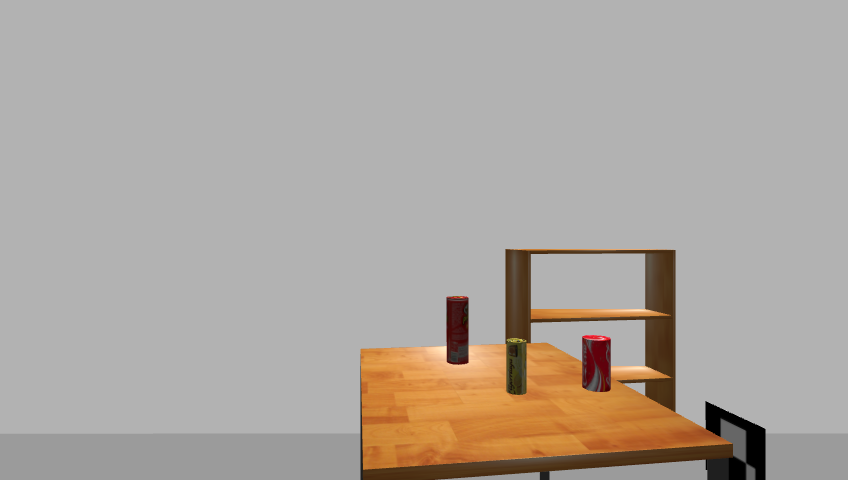aruco marker: (698, 400, 771, 479)
biscuits pack: (505, 339, 528, 396)
bookshelf: (501, 246, 683, 429)
coke can: (580, 335, 613, 393)
dinner table: (352, 342, 739, 479)
pringles can: (443, 295, 471, 366)
